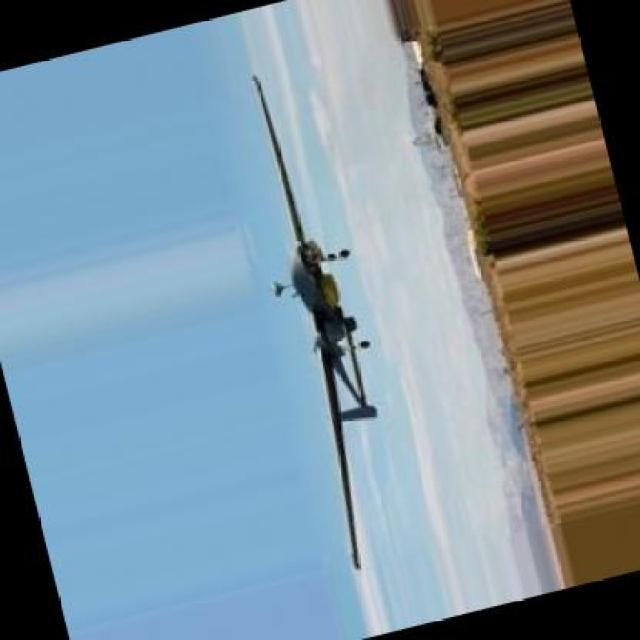iha: (251, 75, 380, 571)
